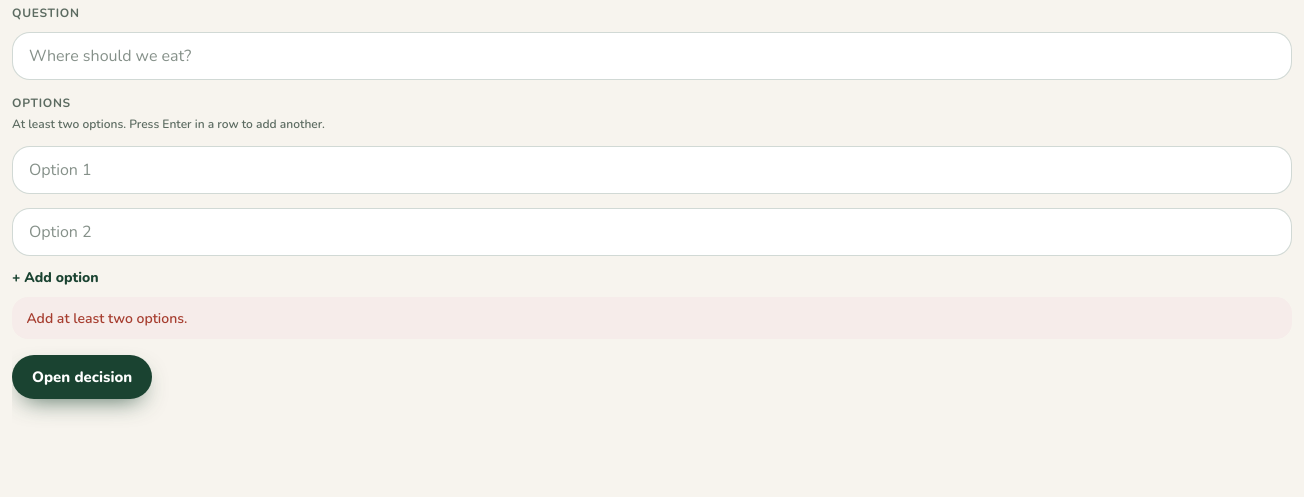
Scenario: DecisionCreateForm › removes a row when more than two remain
Click the button "+ Add option".
click(55, 278)  # box [12,268,99,288]
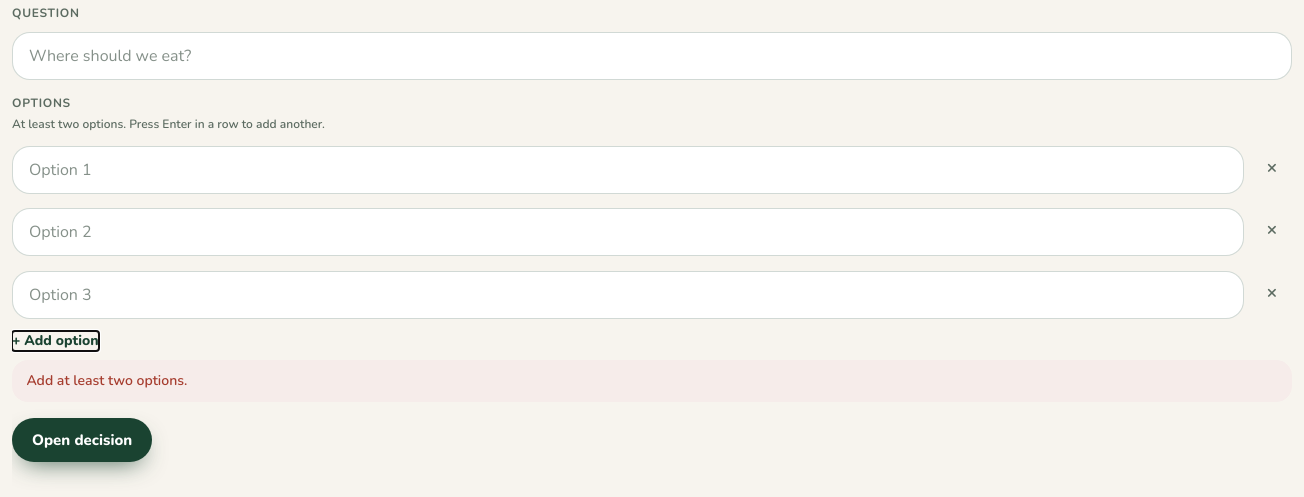
Click the button named "Remove option".
click(1272, 167)  # box [1252,147,1292,187]
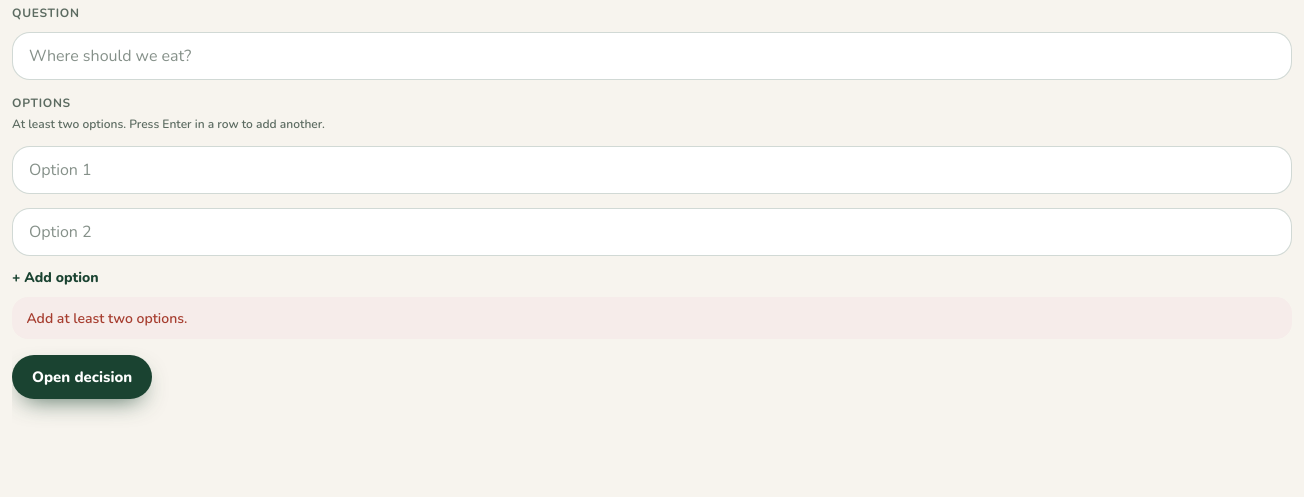
Expected: the number of fields labelled "Option 1" is 2, [12,146,1292,194]; [12,208,1292,256]
